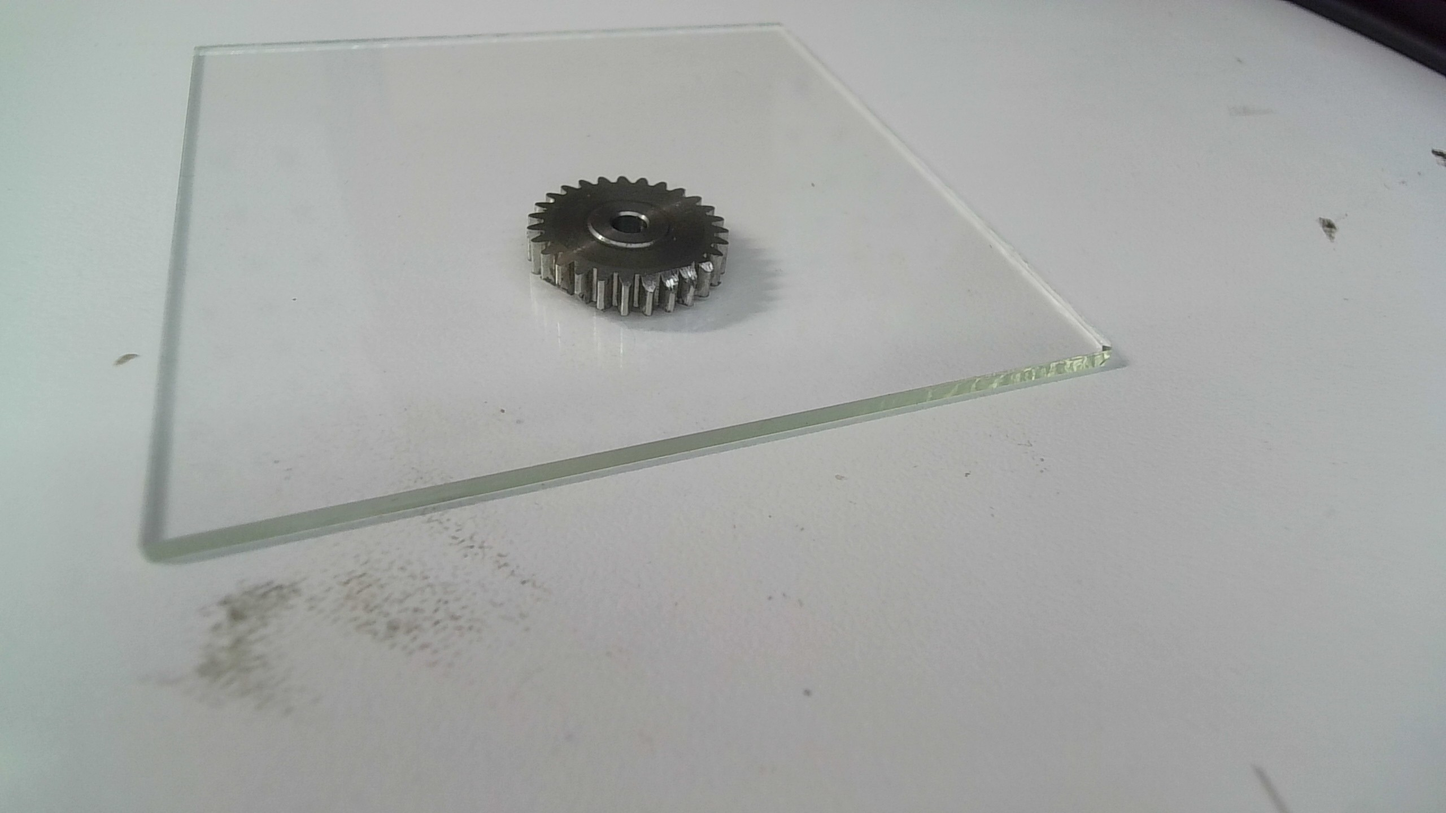gear: (525, 174, 733, 318)
